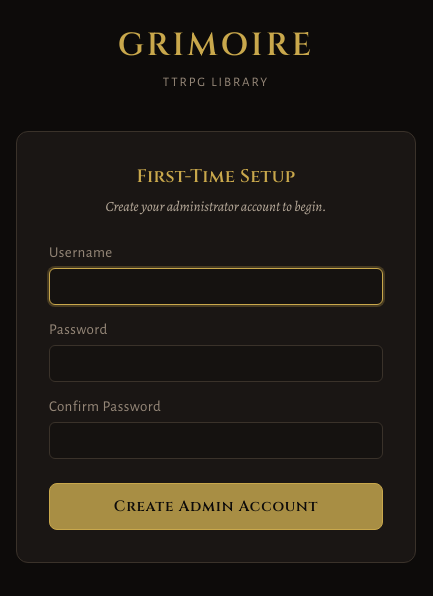
Test case: SetupView › shows an error when password is shorter than 8 characters
Type "admin" into the field labelled "Username" at (216, 286), box [49,268,383,304]
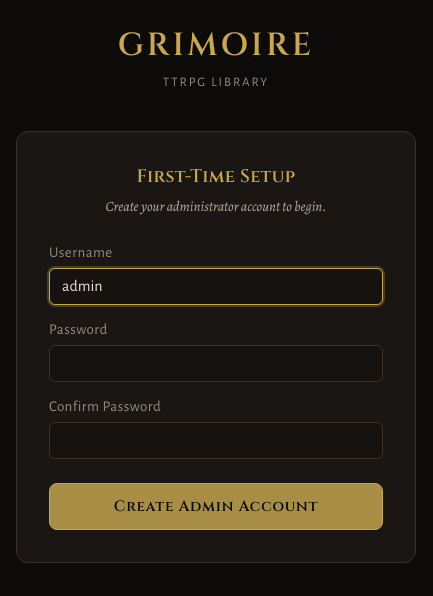
Type "short" into the password field labelled "Password" at (216, 363), box [49,344,383,382]
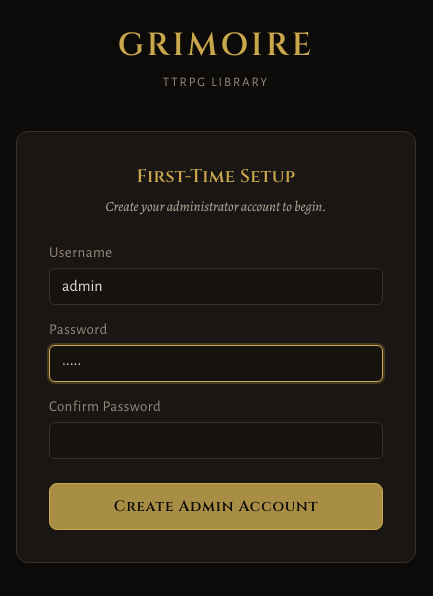
Type "short" into the password field labelled "Confirm Password" at (216, 440), box [49,422,383,458]
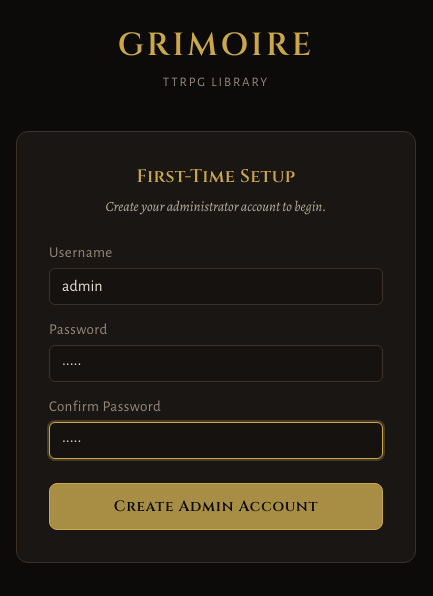
Click the button "Create Admin Account" at (216, 506), box [49,482,383,530]
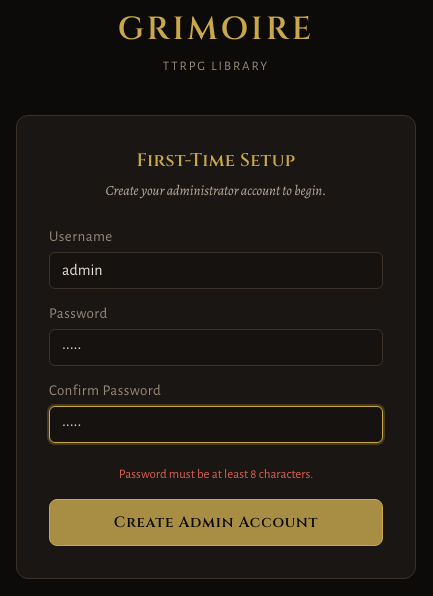
Expected: the text "Password must be at least 8 characters." is shown, [119,468,313,480]
